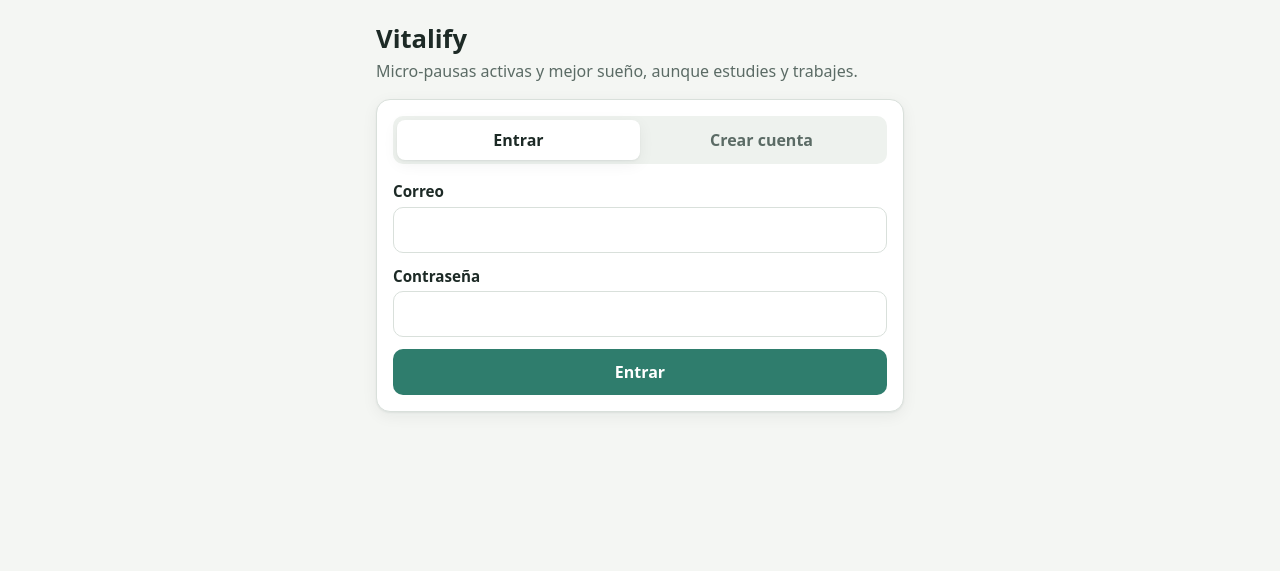
Test case: Entrar › un registro correcto envía aceptaDatos y entra
Click the tab "Crear cuenta" at (762, 140), box [640,120,883,160]
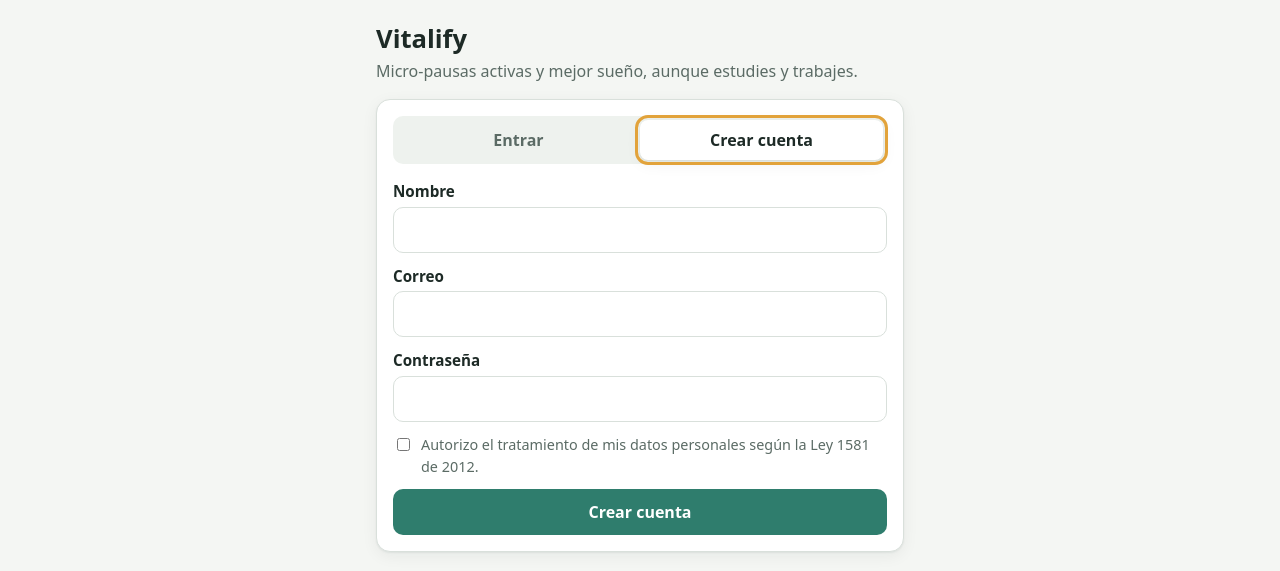
Type "Ana" into the field labelled "Nombre" at (640, 230), box [393,206,887,252]
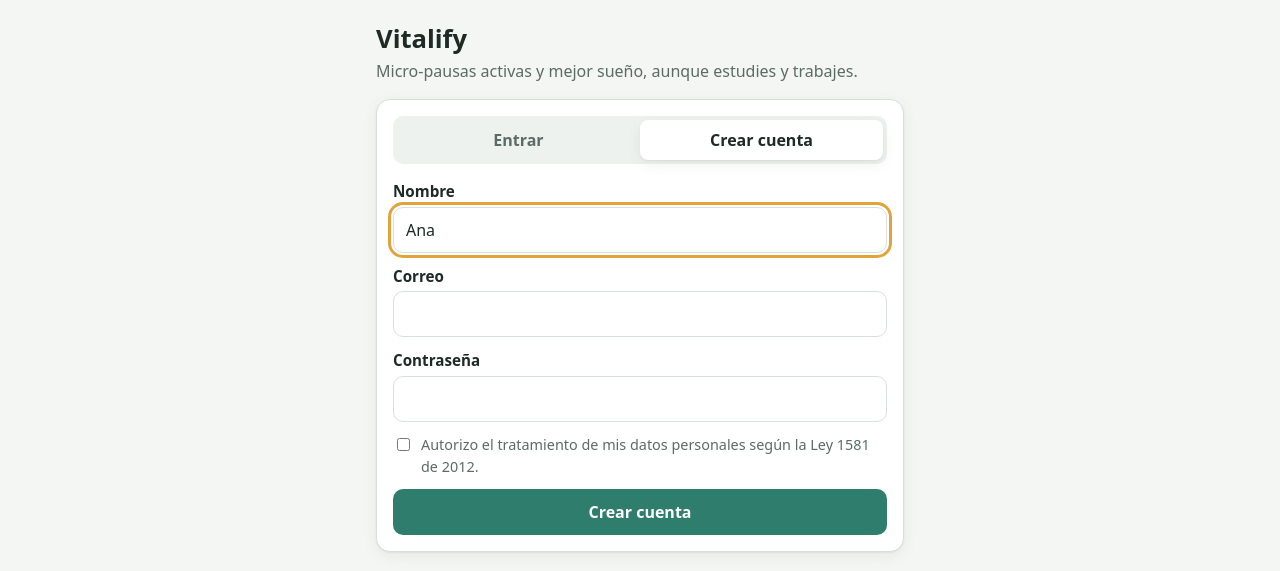
Type "ana@x.co" into the field labelled "Correo" at (640, 314), box [393,291,887,337]
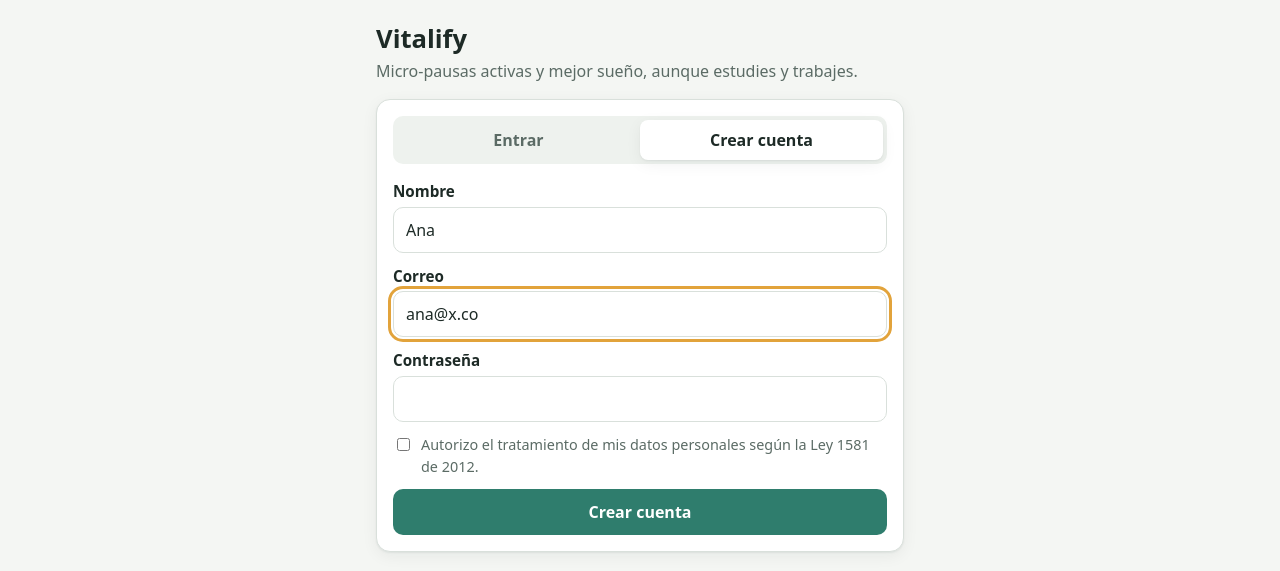
Type "secreta123" into the password field labelled "Contraseña" at (640, 399), box [393,376,887,422]
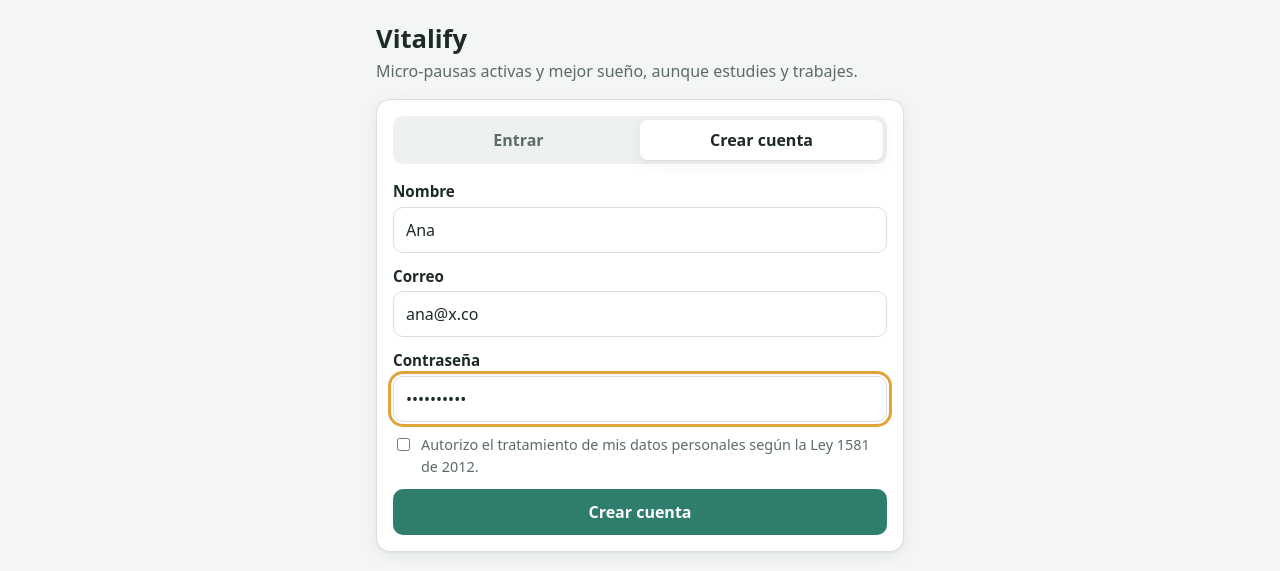
Click the checkbox at (404, 445), box [397,438,410,451]
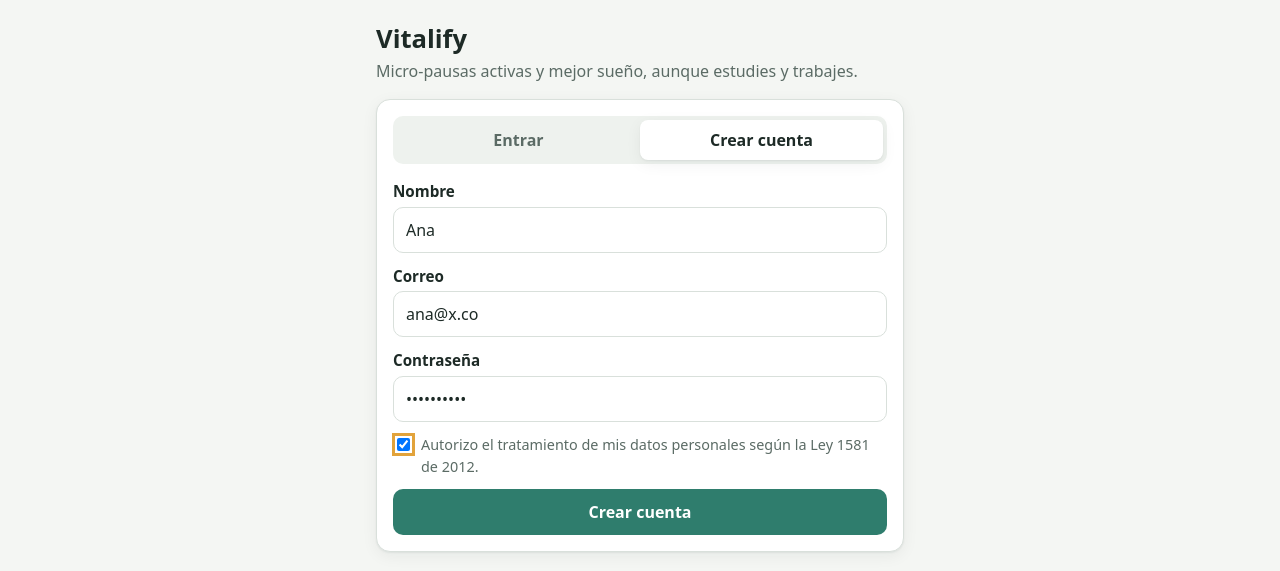
Click the button "Crear cuenta" at (640, 512), box [393,489,887,535]
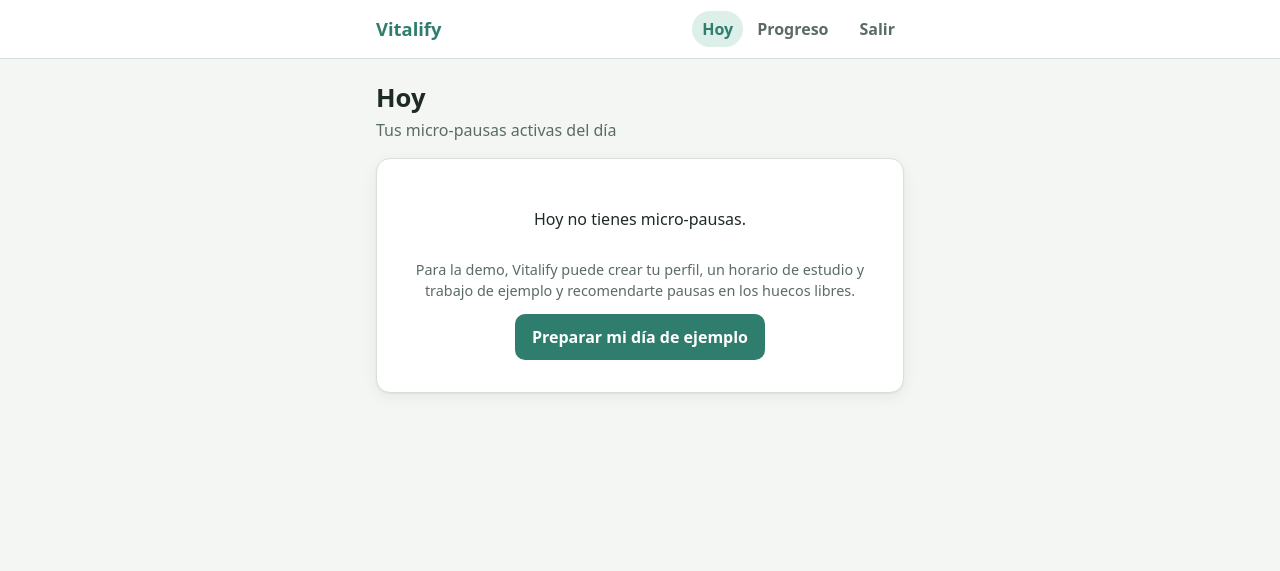
Result: the heading "Hoy" is shown at [376,80,426,115]
